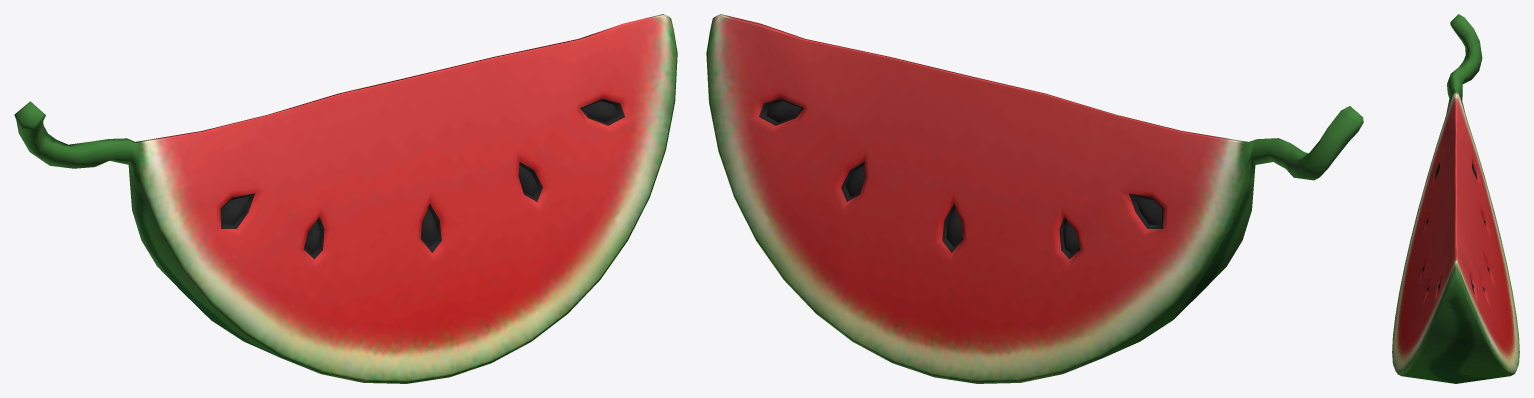
Rendered from sandiaG.glb.
The picture shows the model from 3 angles, left to right: view 1: azimuth 30°, elevation 25°; view 2: azimuth 150°, elevation 25°; view 3: azimuth 270°, elevation 25°; orthographic projection. The views are drawn at different scales.
Parts seen in each view (by area): view 1: Watermelon; view 2: Watermelon; view 3: Watermelon.
Part boxes in pixels (x1,y1,x2,y2): Watermelon: (14,14,677,383); Watermelon: (706,14,1363,383); Watermelon: (1392,14,1519,383).
Size of the model in its own units: 29.51 by 14.76 by 7.46.
1 material, 1 textured.
